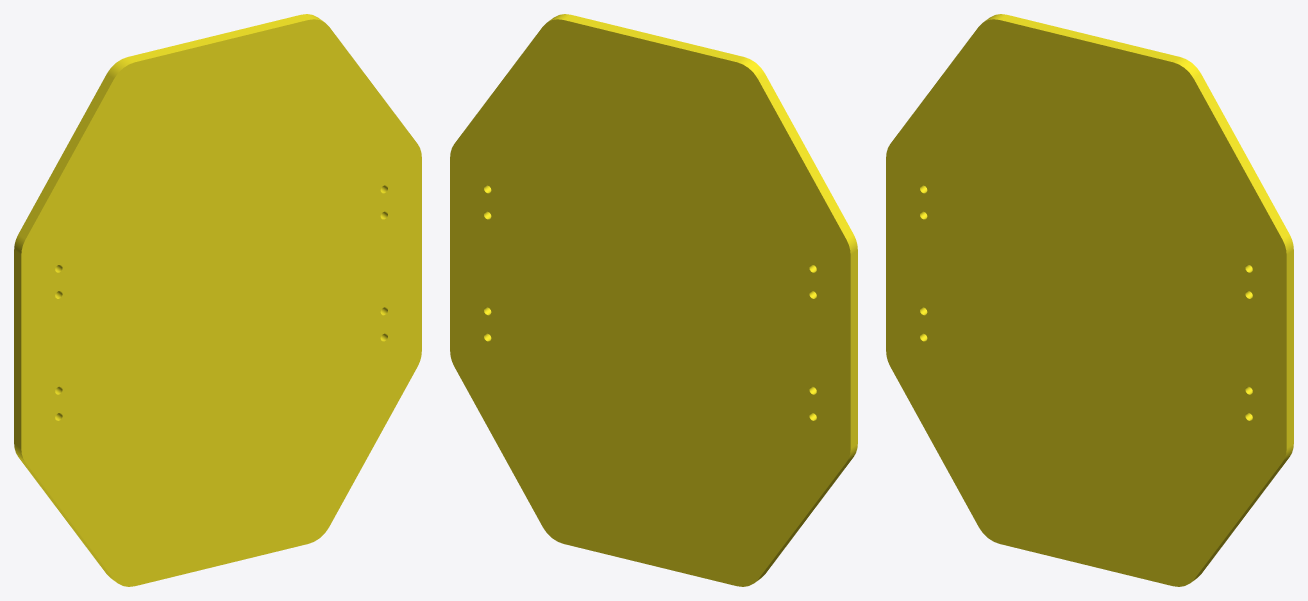
File: body1_visual.obj
3 views of the same model, side by side, from view 1: azimuth 30°, elevation 25°; view 2: azimuth 150°, elevation 25°; view 3: azimuth 330°, elevation 25° (orthographic).
Parts seen in each view (by area): view 1: Body1; view 2: Body1; view 3: Body1.
Part boxes in pixels (<box>): Body1: <box>14,14,421,586</box>; Body1: <box>450,14,857,586</box>; Body1: <box>886,14,1293,586</box>.
Bounding box in the file's own units: 16 × 20 × 0.5.
